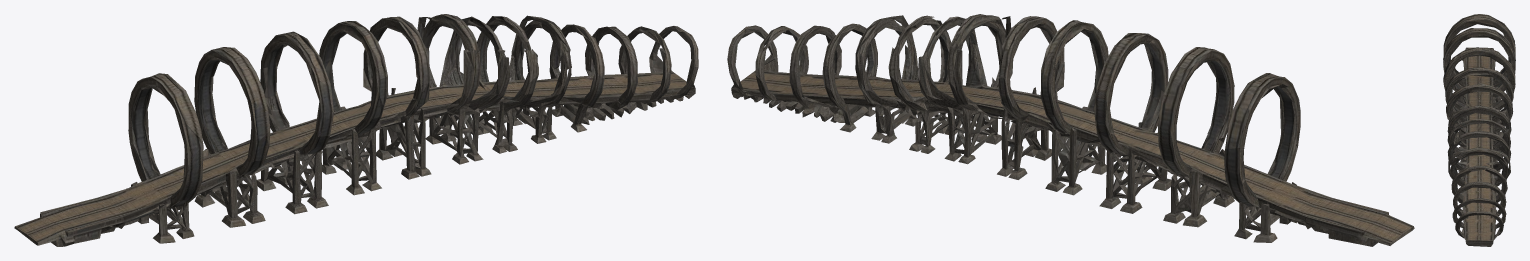
The model's file is stunt-hoop-tunnel.glb.
The picture shows the model from 3 angles, left to right: view 1: azimuth 30°, elevation 25°; view 2: azimuth 150°, elevation 25°; view 3: azimuth 270°, elevation 25°; orthographic projection. The views are drawn at different scales.
Size of the model in its own units: 1.9 by 0.4309 by 0.3062.
1 material, 1 textured.
